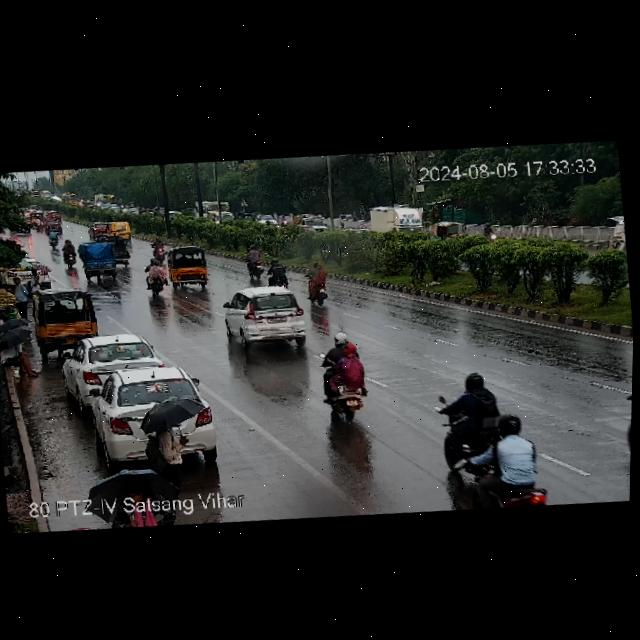car: (85, 356, 224, 477), (61, 328, 172, 414), (220, 283, 313, 358), (30, 283, 106, 352), (74, 234, 131, 281), (165, 244, 215, 291), (427, 219, 474, 243), (86, 217, 126, 244), (604, 207, 627, 253), (40, 210, 68, 237)
motorcycle: (464, 406, 553, 514), (429, 371, 500, 455), (311, 327, 374, 421), (304, 256, 330, 307), (141, 255, 169, 297), (240, 245, 269, 280), (263, 258, 293, 290), (62, 238, 80, 272), (148, 232, 167, 261), (481, 218, 497, 239), (48, 226, 59, 250), (281, 214, 288, 225)
person: (143, 392, 200, 487), (0, 313, 36, 383), (8, 271, 31, 318), (28, 268, 46, 311)
